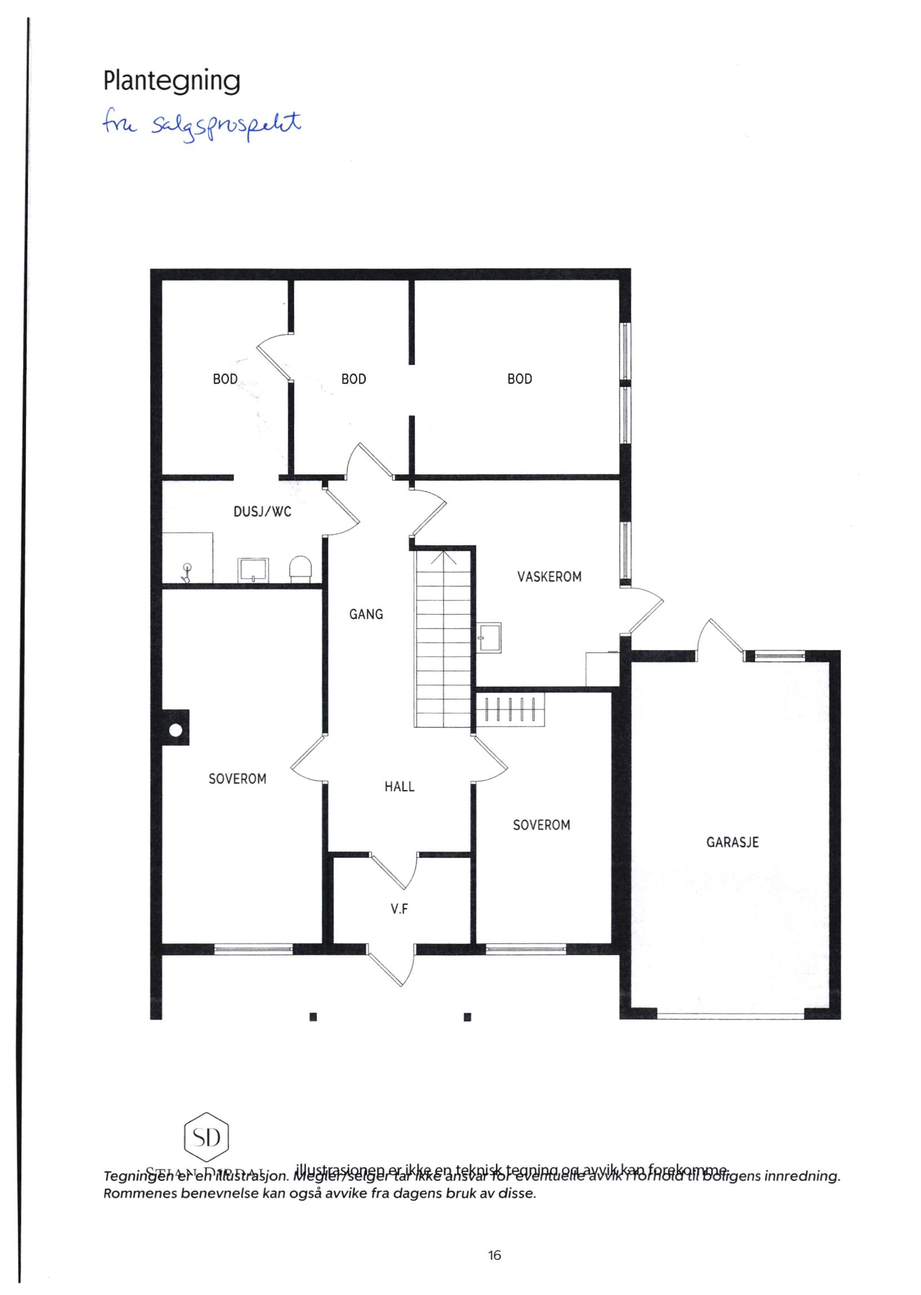plantegning: (147, 262, 845, 1028)
